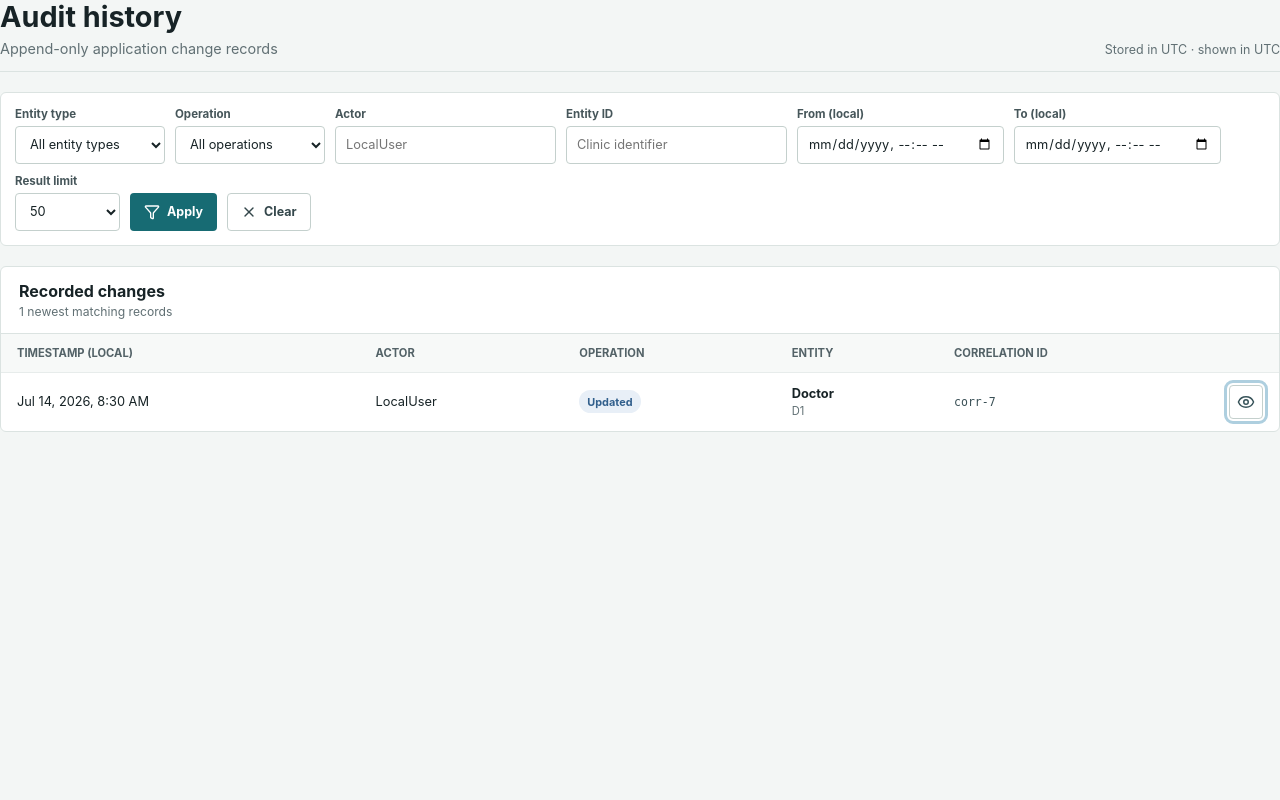
Test: opens an audit record and safely displays snapshot JSON
Check: the text "corr-7" is shown, box x1=954 y1=395 x2=996 y2=409
Click the button named "Inspect audit entry 7".
click(1246, 402)  # box x1=1229 y1=384 x2=1263 y2=418
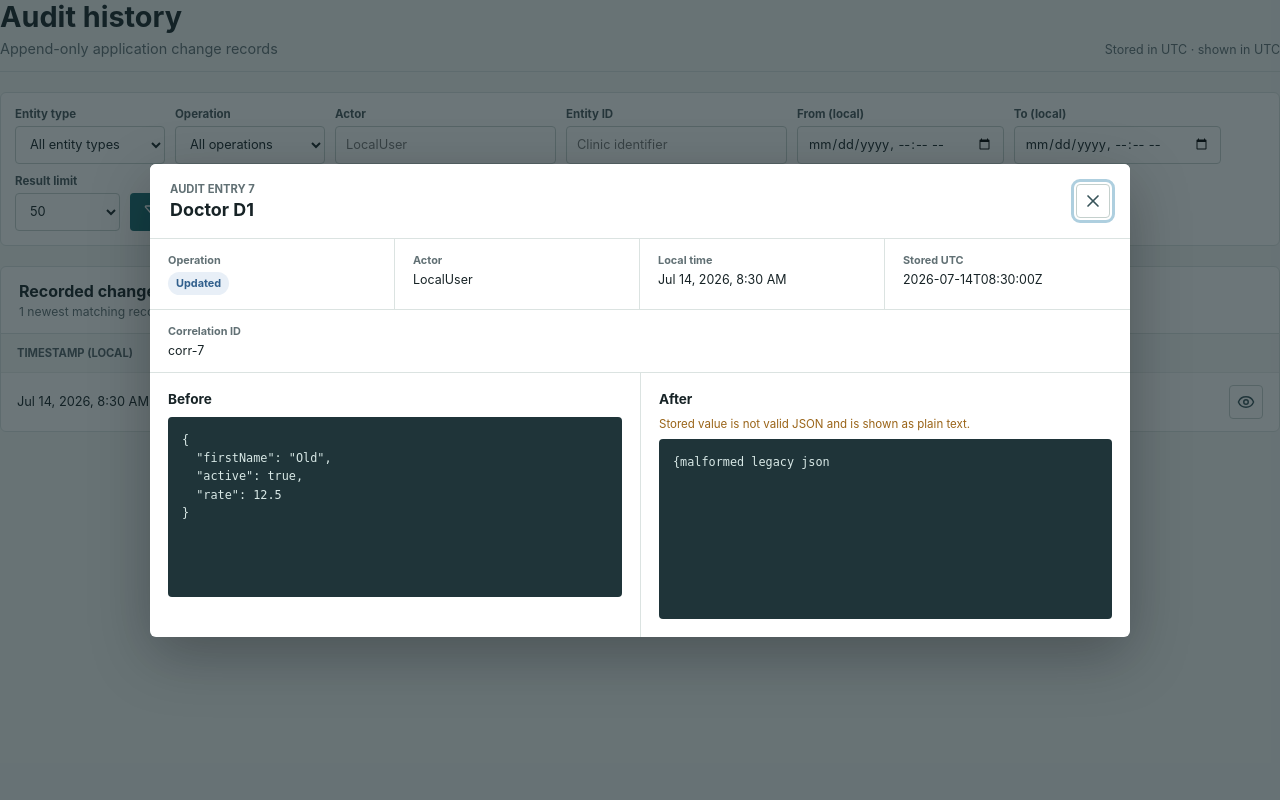
Check: the dialog "Doctor D1" is shown, box x1=150 y1=164 x2=1130 y2=636
Check: the text "{ \"firstName\": \"Old\", \"active\": true, \"rate\": 12.5 }" is shown, box x1=168 y1=416 x2=622 y2=596
Check: the text "Stored value is not valid JSON and is shown as plain text." is shown, box x1=659 y1=416 x2=970 y2=430
Press Tab
Press Escape
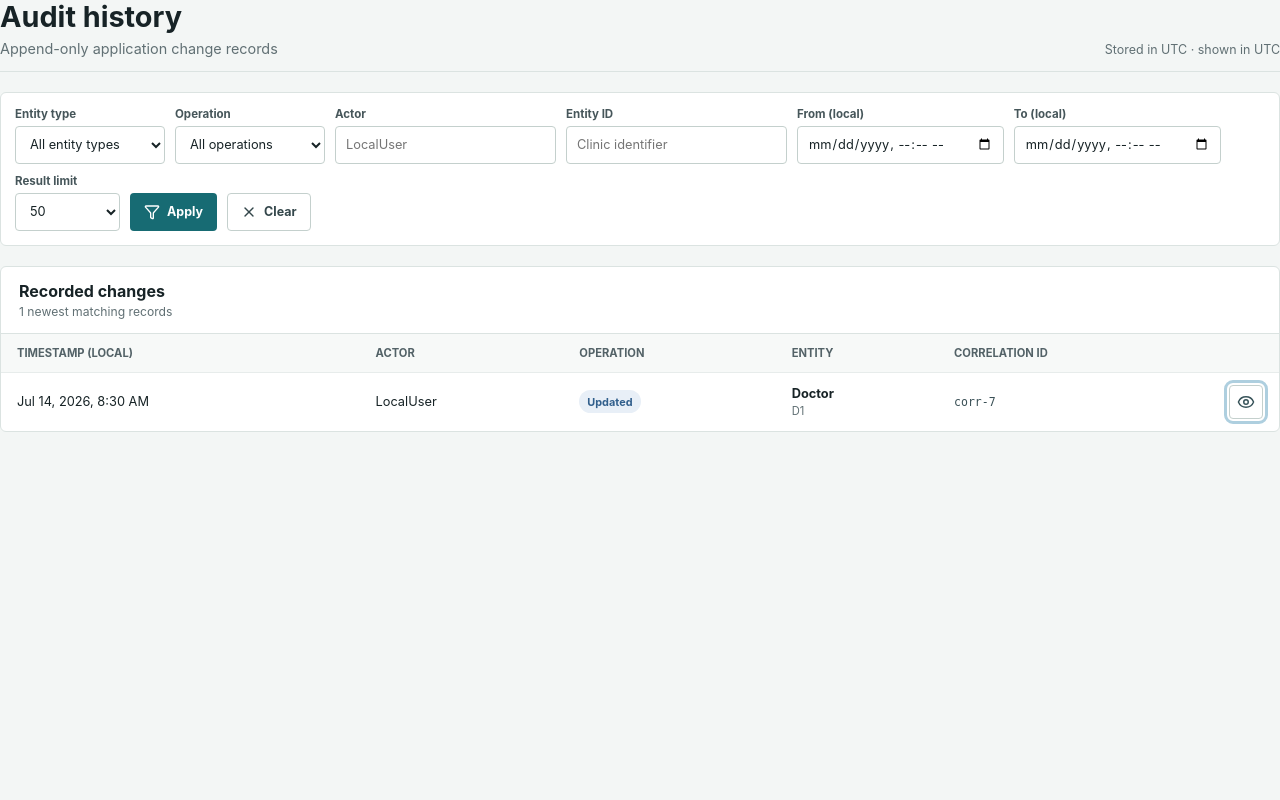
Check: the dialog is gone
